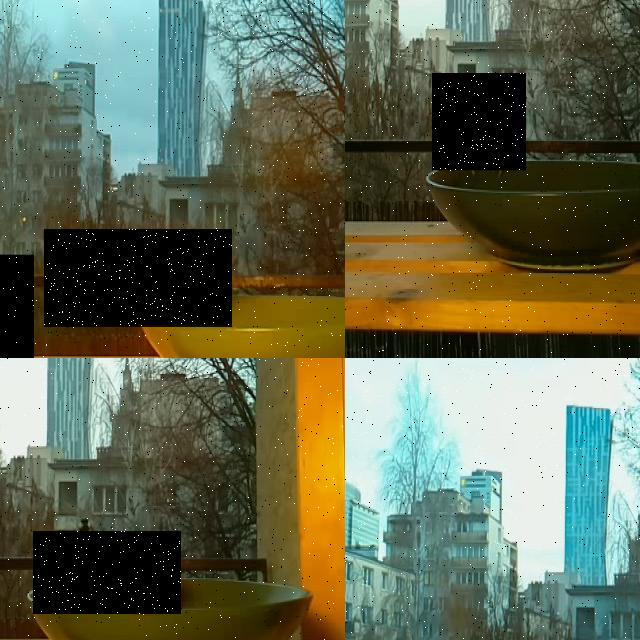Bogatka: (33, 531, 181, 614), (432, 73, 526, 170), (0, 254, 34, 358)
Wrobel: (44, 229, 232, 327)
